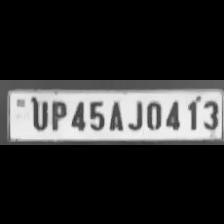0: (142, 96, 162, 130)
1: (182, 96, 200, 130)
3: (200, 96, 218, 130)
4: (162, 96, 182, 130), (68, 97, 86, 131)
5: (85, 97, 105, 131)
A: (106, 97, 124, 131)
J: (124, 96, 142, 130)
P: (47, 97, 67, 130)
U: (28, 96, 48, 130)
